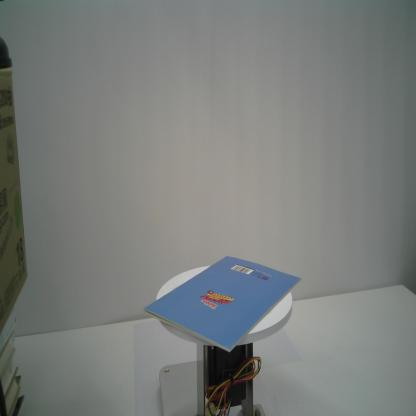Stationery: (142, 256, 302, 354)
